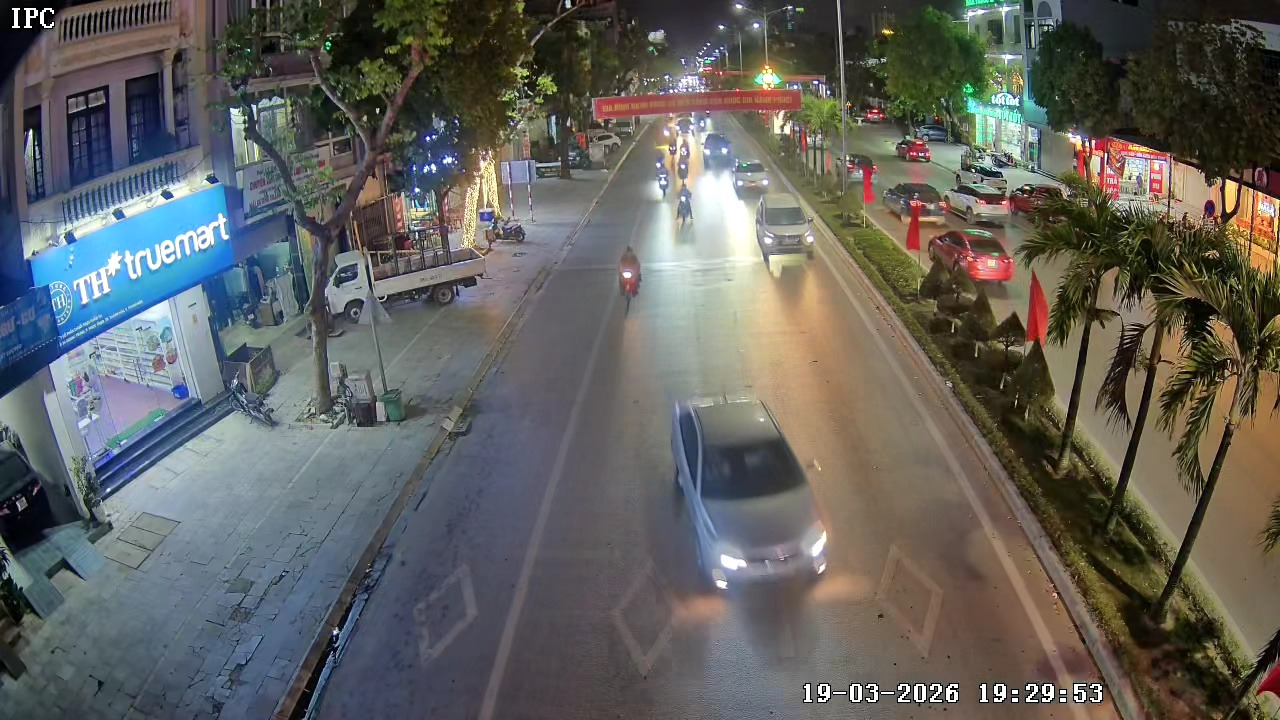car: (667, 396, 830, 590), (752, 191, 815, 260), (883, 178, 949, 227), (732, 158, 769, 196), (703, 131, 734, 170)
motorbike: (615, 244, 644, 306), (675, 186, 694, 230), (674, 150, 694, 187), (654, 154, 670, 199)
